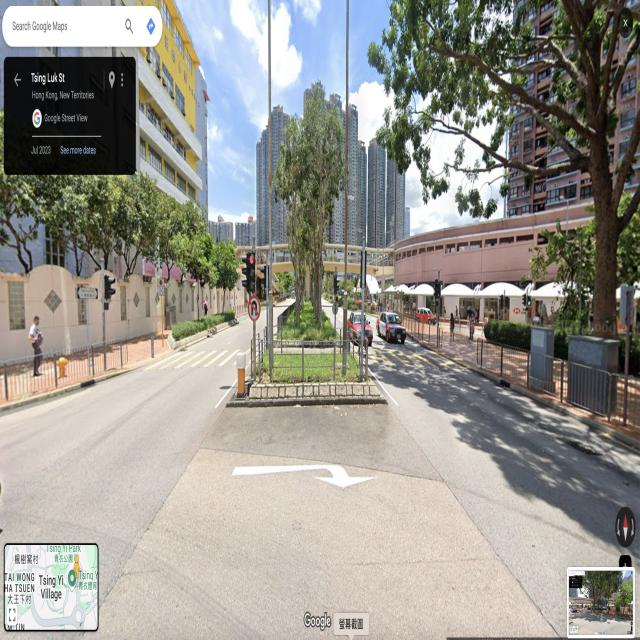Order-Sign: (248, 298, 260, 319), (157, 278, 164, 295)
Street-Direction-Sign: (78, 285, 98, 301)
